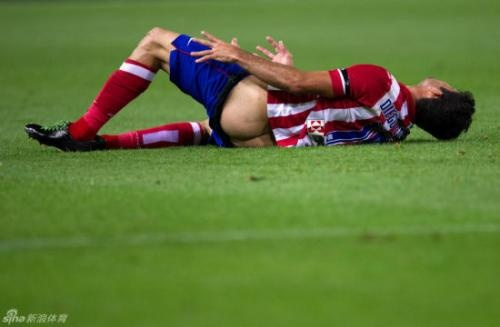falling: (27, 8, 467, 157)
